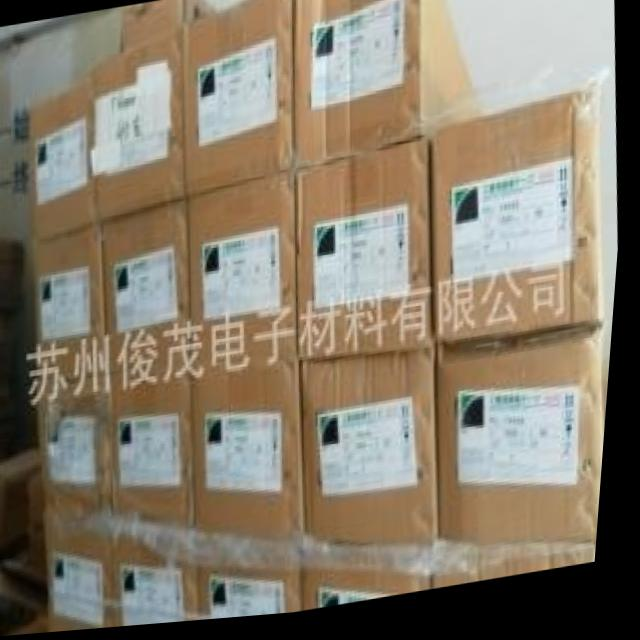box: (433, 96, 609, 349), (443, 334, 612, 569), (294, 0, 488, 174), (306, 353, 447, 574), (298, 145, 439, 364), (195, 367, 313, 574), (191, 175, 303, 380), (182, 0, 296, 200), (92, 32, 187, 222), (105, 202, 197, 392), (117, 381, 205, 569), (36, 225, 115, 402), (44, 393, 122, 562), (31, 79, 100, 243), (440, 557, 605, 594), (205, 569, 312, 624), (120, 563, 207, 630), (56, 552, 122, 634), (121, 0, 218, 55), (312, 575, 440, 613)
